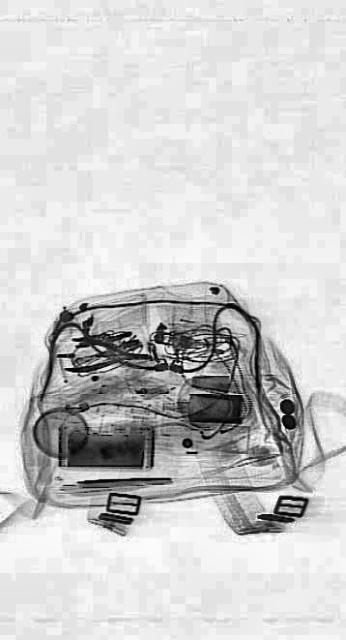Pliers: (62, 335, 148, 371)
